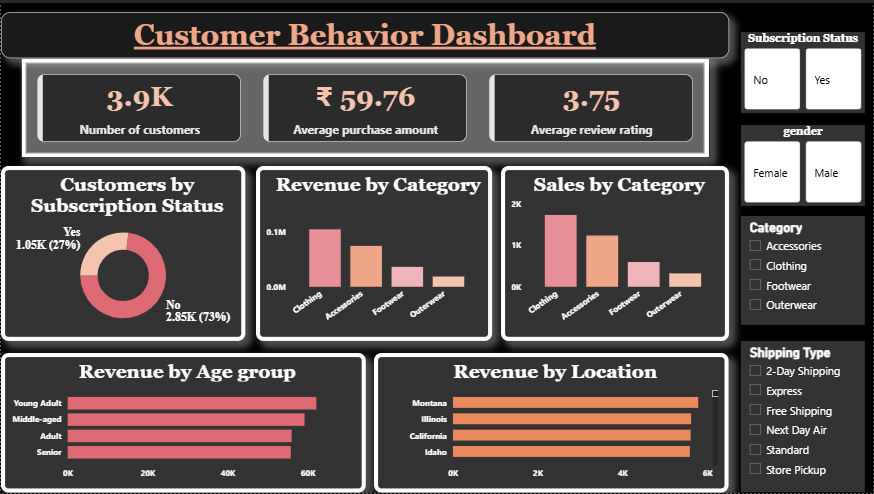

What the dashboard file says about the page in this screenshot:
{"tool":"powerbi","page":{"name":"Page 1","canvas":[1280,720],"ordinal":0},"visuals":[{"type":"cardVisual","fields":{"Data":["public customer.Number of customers","public customer.Average purchase amount","public customer.Average review rating"]},"box":[29.4,80.9,1012.2,147.1],"z":0},{"type":"textbox","box":[0,13.2,1069.6,67.7],"z":1000},{"type":"donutChart","title":"Customers by Subscription Status","fields":{"Category":["public customer.subscription_status"],"Y":["CountNonNull(public customer.customer_id)"]},"box":[0,239.8,359,257.5],"z":2000},{"type":"columnChart","title":"Revenue by Category","fields":{"Category":["public customer.category"],"Y":["Sum(public customer.purchase_amount)"]},"box":[375.2,239.8,347.2,257.5],"z":3000},{"type":"clusteredColumnChart","title":"Sales by Category","fields":{"Category":["public customer.category"],"Y":["CountNonNull(public customer.customer_id)"]},"box":[734.2,239.8,335.4,257.5],"z":4000},{"type":"advancedSlicerVisual","title":"Subscription Status","fields":{"Values":["public customer.subscription_status"]},"box":[1087.3,42.7,182.4,119.2],"z":5000},{"type":"advancedSlicerVisual","fields":{"Values":["public customer.gender"]},"box":[1087.3,179.5,182.4,119.2],"z":6000},{"type":"slicer","fields":{"Values":["public customer.shipping_type"]},"box":[1087.3,497.3,182.4,222.2],"z":7000},{"type":"slicer","fields":{"Values":["public customer.category"]},"box":[1087.3,313.4,182.4,160.4],"z":8000},{"type":"clusteredBarChart","title":"Revenue by Age group","fields":{"Y":["Sum(public customer.purchase_amount)"],"Category":["public customer.age_group"]},"box":[0,514.9,535.5,204.5],"z":8001},{"type":"clusteredBarChart","title":"Revenue by Location","fields":{"Category":["public customer.location"],"Y":["Sum(public customer.purchase_amount)"]},"box":[548.8,514.9,520.8,204.5],"z":8002}]}

Visuals, with their boxes in screenshot pixels (x1, y1, x2, y2), scaled from the page's 1280x720 canvas onto the 874x494 screenshot:
cardVisual - public customer.Number of customers x public customer.Average purchase amount: bbox(20, 56, 711, 156)
textbox: bbox(0, 9, 730, 56)
"Customers by Subscription Status" donutChart: bbox(0, 165, 245, 341)
"Revenue by Category" columnChart: bbox(256, 165, 493, 341)
"Sales by Category" clusteredColumnChart: bbox(501, 165, 730, 341)
"Subscription Status" advancedSlicerVisual: bbox(742, 29, 867, 111)
advancedSlicerVisual - public customer.gender: bbox(742, 123, 867, 205)
slicer - public customer.shipping_type: bbox(742, 341, 867, 493)
slicer - public customer.category: bbox(742, 215, 867, 325)
"Revenue by Age group" clusteredBarChart: bbox(0, 353, 366, 493)
"Revenue by Location" clusteredBarChart: bbox(375, 353, 730, 493)
